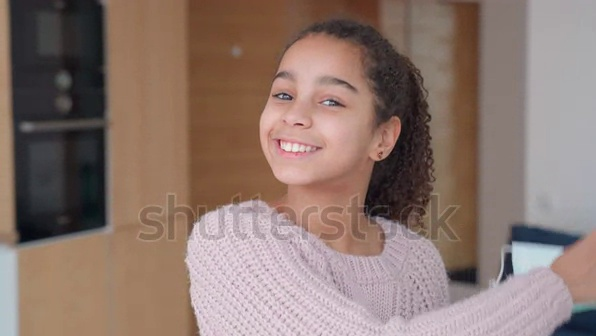No Mask: (253, 117, 364, 188)
